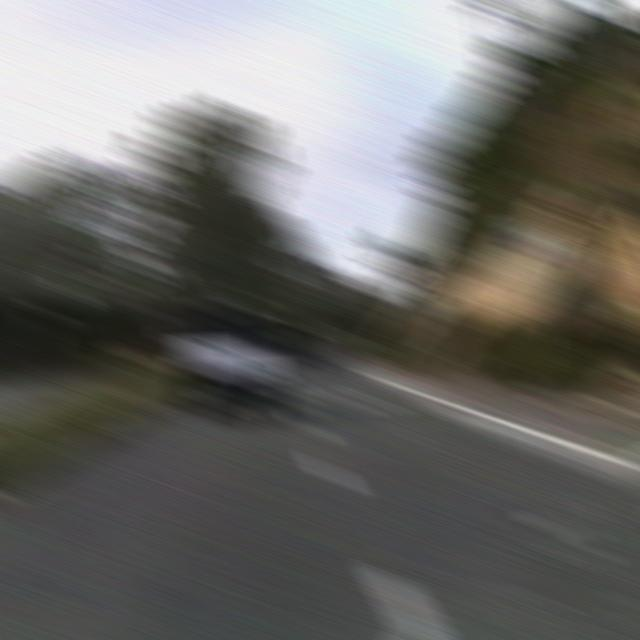speedLimit40: (507, 220, 551, 266)
